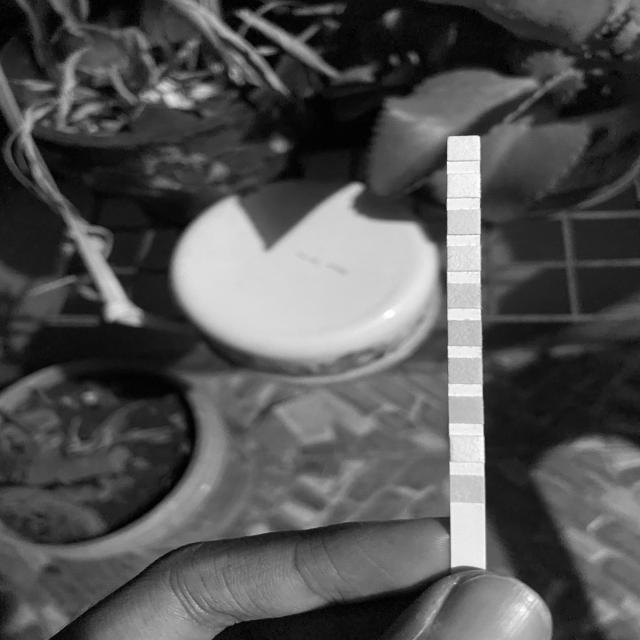Bilirubin: (452, 435, 483, 461)
Blood: (450, 322, 480, 345)
Glucose: (452, 475, 483, 502)
Ketone: (449, 397, 482, 423)
Leukocytes: (449, 138, 479, 162)
Nitrite: (448, 175, 480, 197)
Protein: (449, 246, 479, 270)
SpGravity: (449, 359, 482, 382)
Urobilinogen: (450, 211, 479, 232)
background: (0, 0, 640, 640)
pH: (449, 284, 479, 307)
strip: (447, 136, 487, 566)
